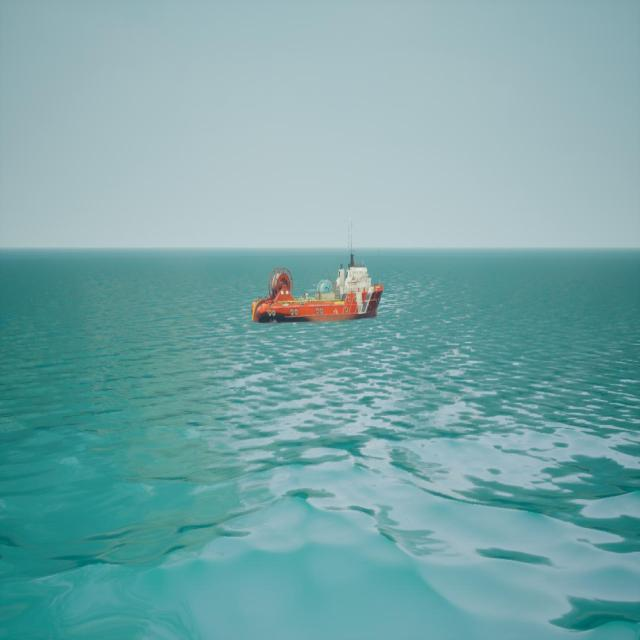tug boat: (252, 263, 387, 324)
